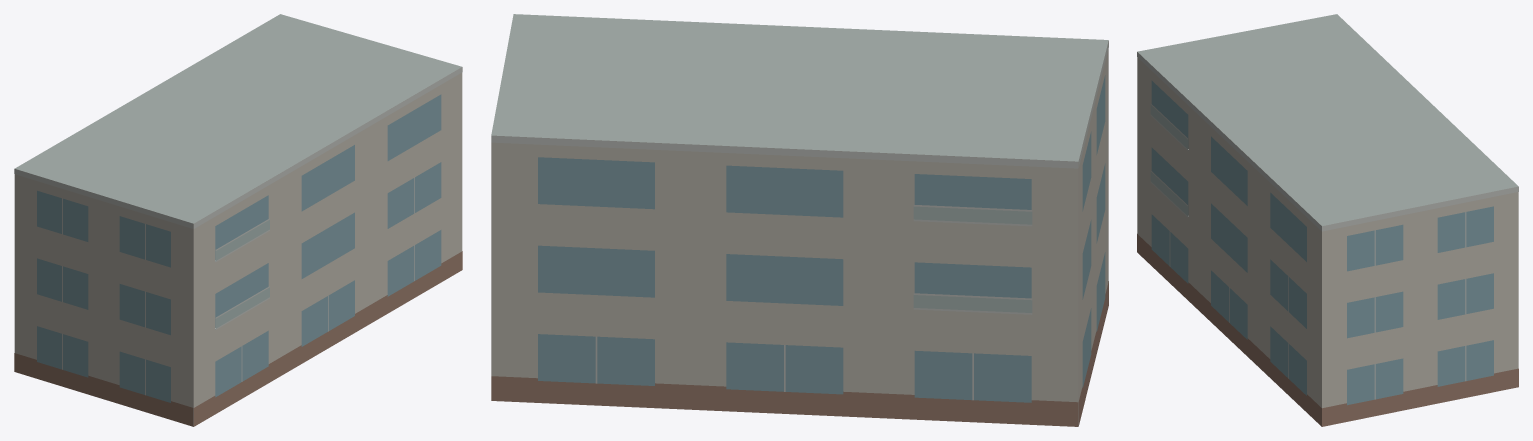
Rendered from survey-upis-32687550.glb.
3 views of the same model, side by side, from view 1: azimuth 30°, elevation 25°; view 2: azimuth 150°, elevation 25°; view 3: azimuth 270°, elevation 25° (orthographic). The views are drawn at different scales.
Parts seen in each view (by area): view 1: survey-upis-32687550.tmp; view 2: survey-upis-32687550.tmp; view 3: survey-upis-32687550.tmp.
Boxes of the visible parts, box(x1,y1,x2,y2) form: survey-upis-32687550.tmp: box(14, 14, 462, 426); survey-upis-32687550.tmp: box(491, 14, 1108, 426); survey-upis-32687550.tmp: box(1137, 14, 1518, 426).
Size of the model in its own units: 20.76 by 9.15 by 15.78.
